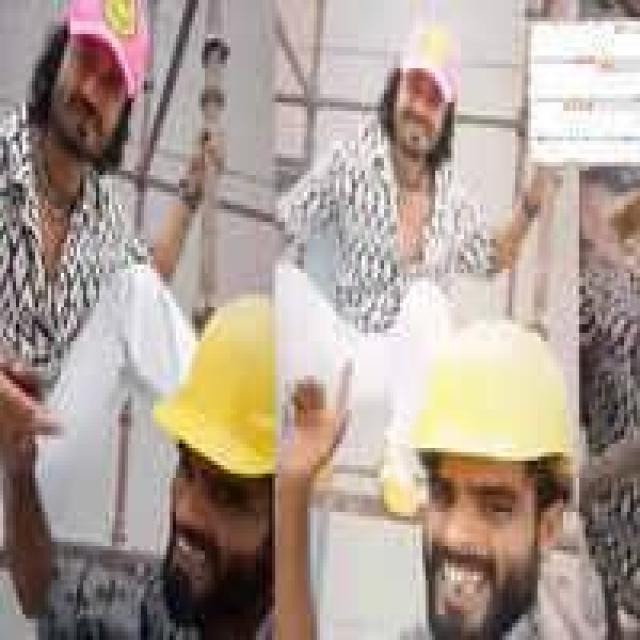Safety-Helmet: (137, 273, 346, 499), (390, 303, 605, 508)
